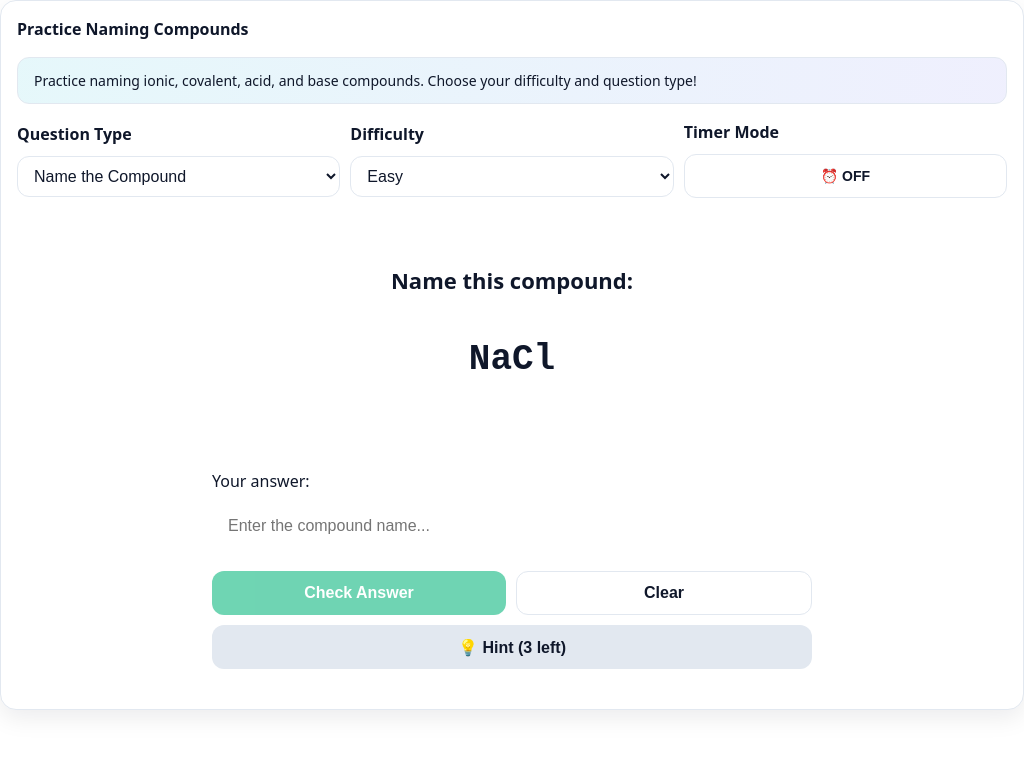
it: Practice Component › shows clear button functionality
The image size is (1024, 768).
Expected: the heading "Name this compound:" is shown, [391,265,633,295]
Type "sodium chloride" into the field with placeholder "Enter the compound name..." at (512, 526), box [212,501,812,551]
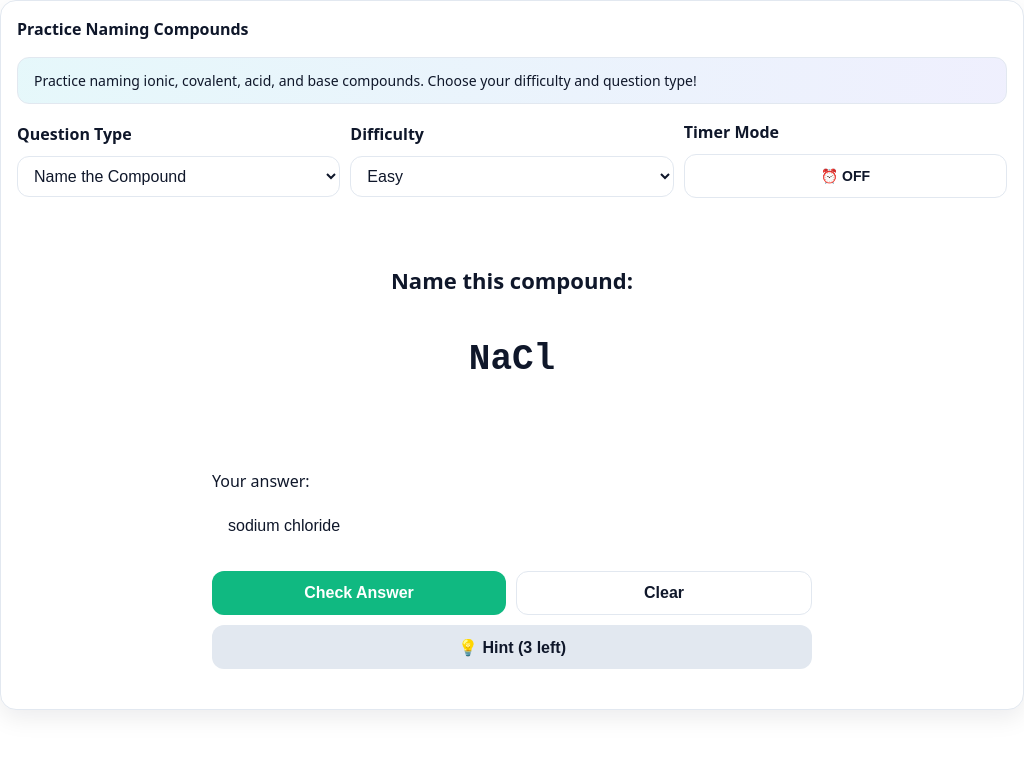
Click the button "Clear" at (664, 593), box [516,571,812,615]
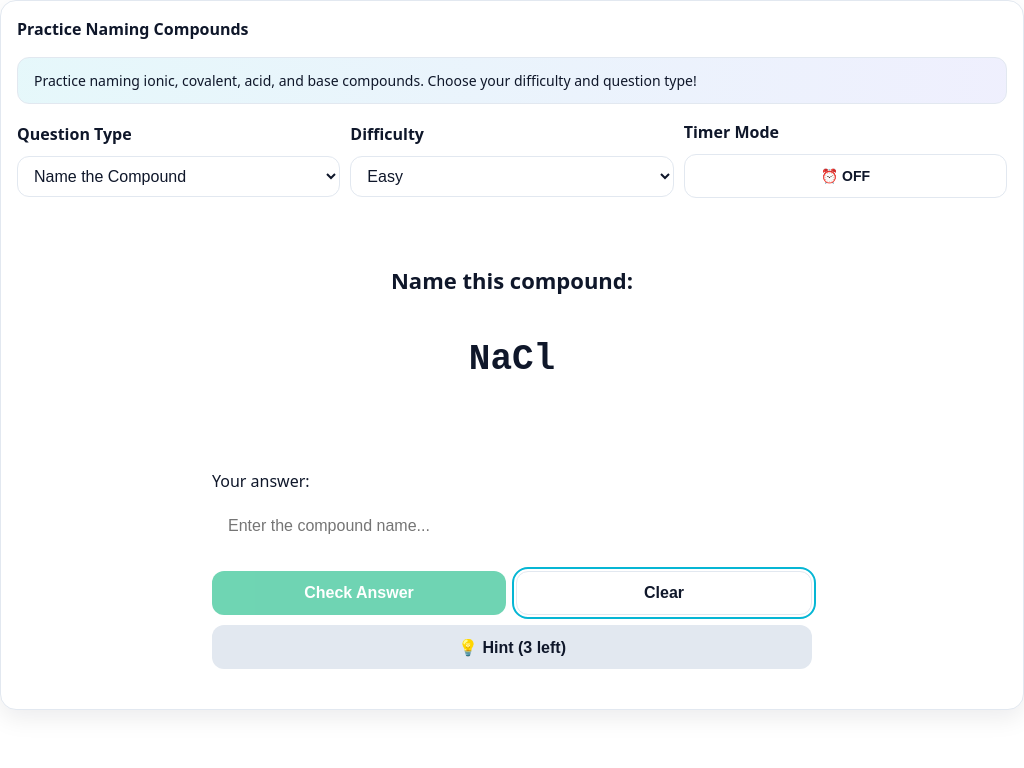
Now the field with placeholder "Enter the compound name..." is empty, box [212,501,812,551]
